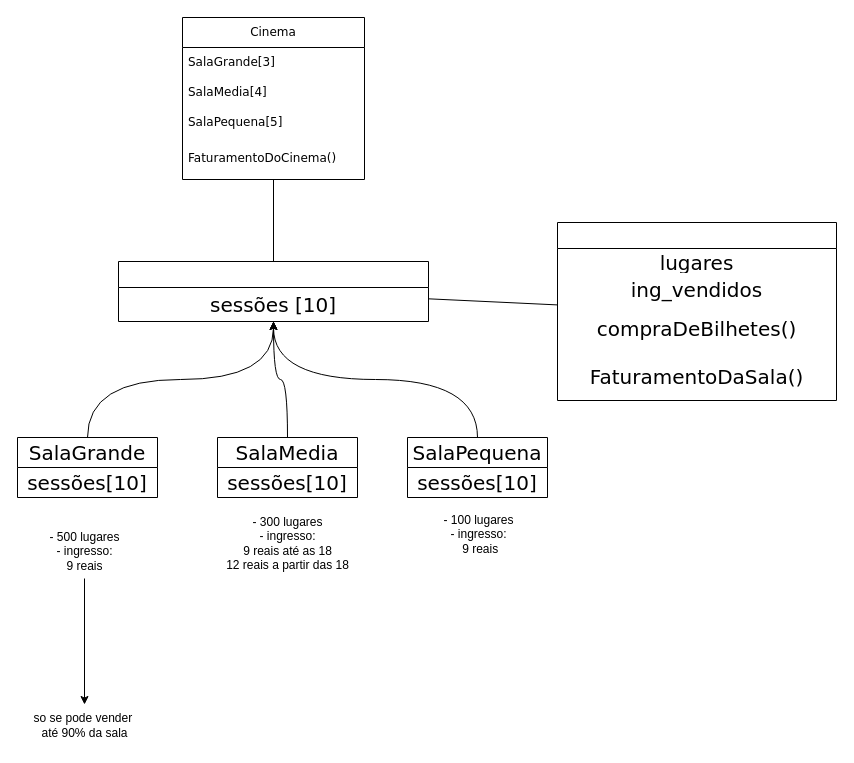
This 854x763 diagram has some shape labels left out. Here are the shapes that lost their labels. From the top down, the box of each, then its label:
(118, 260, 428, 322): Sala
(556, 222, 836, 400): Sessão
